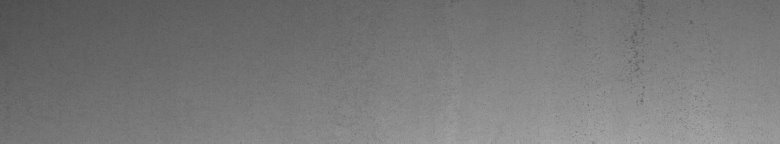ib: (628, 20, 693, 102)
